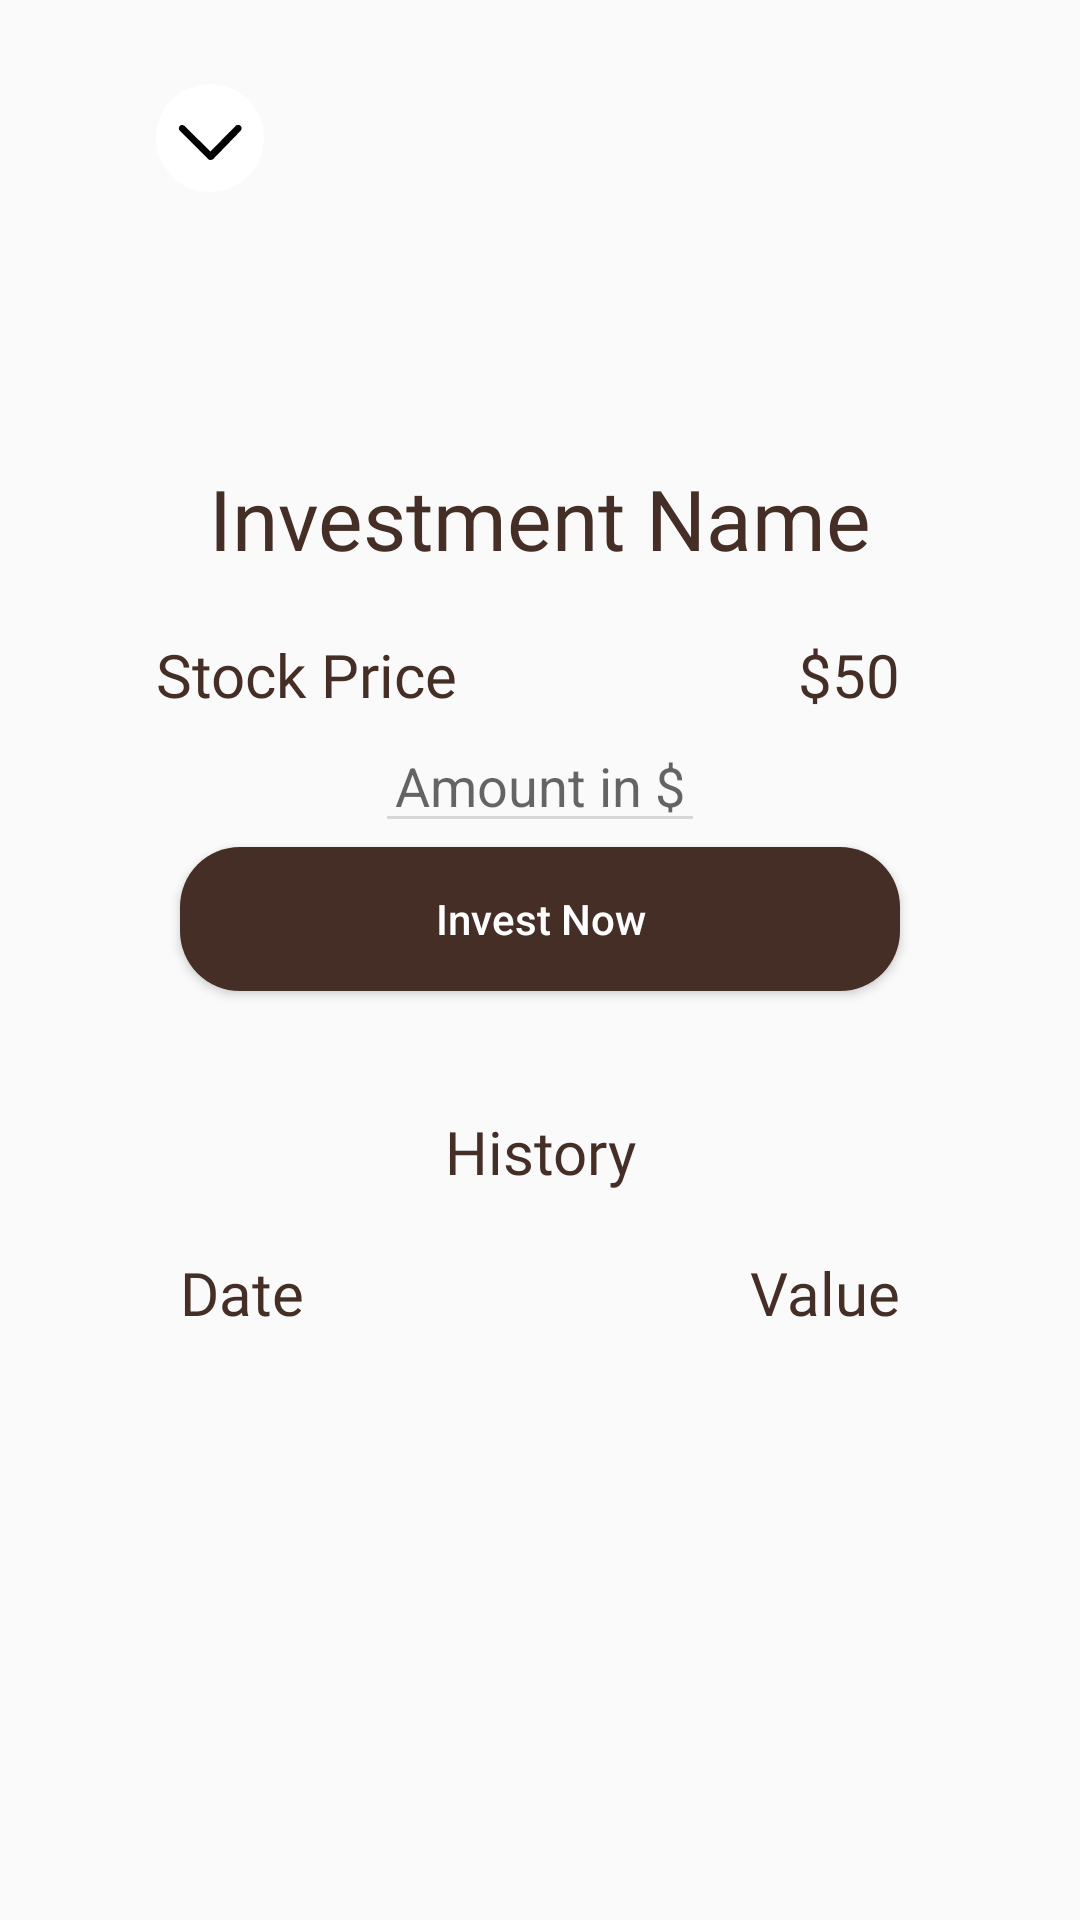

Named icons in this screenshot (1080w x 1920h) and their bounding boxes, bbox=[x1, y1, x2, y2]:
dropdown: bbox=[178, 125, 242, 160]
